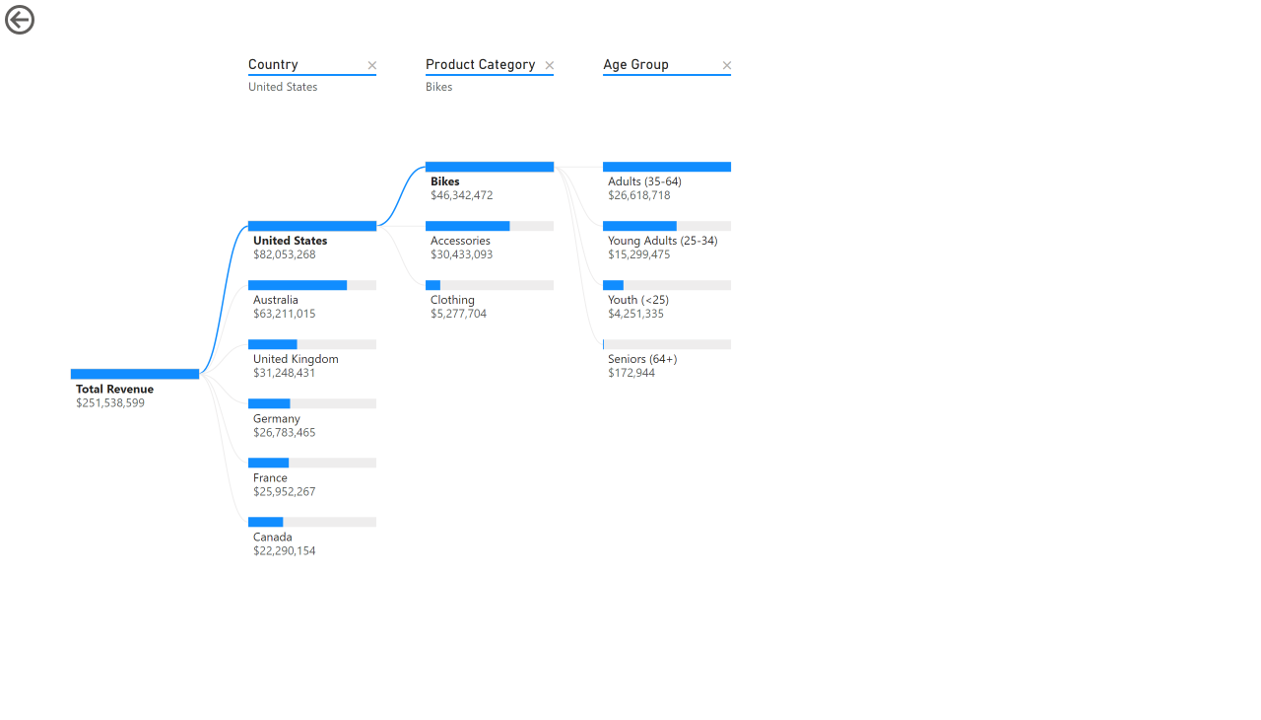

The page's visual inventory and layout, read from the dashboard file:
{"tool":"powerbi","page":{"name":"Decomposition Tree","canvas":[1280,720],"ordinal":2},"visuals":[{"type":"actionButton","box":[0,0,100,40],"z":0},{"type":"decompositionTreeVisual","fields":{"Analyze":["Maven Cycles Sales.Total Revenue"],"ExplainBy":["Maven Cycles Regions.Country","Maven Cycles Product Categories.Product Category","Maven Cycles Age Group.Age Group"]},"box":[41.6,40.4,1062.9,656.3],"z":1}]}

Visuals, with their boxes in screenshot pixels (x1, y1, x2, y2), scaled from the page's 1280x720 canvas onto the 1261x720 screenshot:
actionButton: BBox(0, 0, 99, 40)
decompositionTreeVisual - Maven Cycles Sales.Total Revenue x Maven Cycles Regions.Country: BBox(41, 40, 1088, 697)
